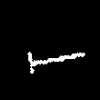double_crochet: (28, 52, 84, 72)
